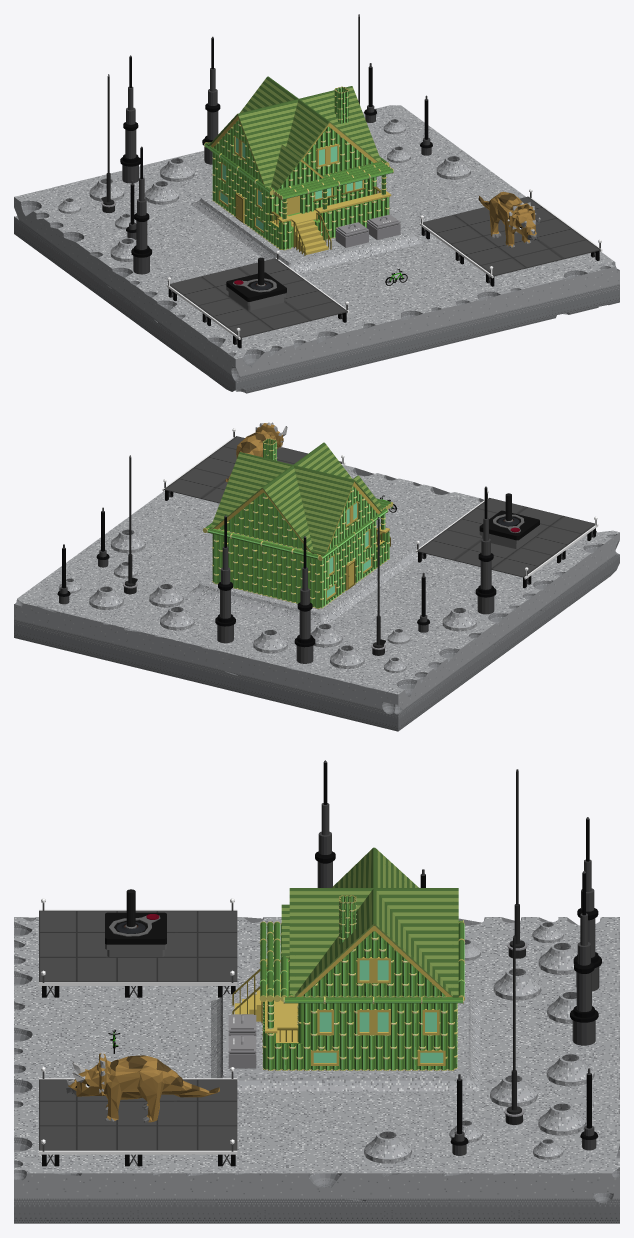
3 renders of one model, top to bottom at view 1: azimuth 30°, elevation 25°; view 2: azimuth 150°, elevation 25°; view 3: azimuth 270°, elevation 25°, orthographic. The views are drawn at different scales.
Parts seen in each view (by area): view 1: Cube.027, Cube.1327, Cube.026, Cube.025, Cube.028, ANIMAL_Triceratops, OBJRANDOM_JOYSTICK, Cylinder.021, Cylinder.020, Cylinder.017, Cube.029, Cube.030 (+5 smaller); view 2: Cube.027, Cube.1327, Cube.025, Cube.028, Cube.026, OBJRANDOM_JOYSTICK, Cylinder.021, Cylinder.020, Cylinder.017, ANIMAL_Triceratops, Cylinder.029, Cylinder.030 (+8 smaller); view 3: Cube.027, Cube.1327, Cube.025, Cube.026, Cube.028, ANIMAL_Triceratops, OBJRANDOM_JOYSTICK, Cylinder.017, Cylinder.021, Cylinder.020, Cylinder.033, Cylinder.031 (+11 smaller).
Boxes of the visible parts, <box> form: Cube.027: <box>14,105,619,393</box>; Cube.1327: <box>204,76,393,255</box>; Cube.026: <box>419,189,602,286</box>; Cube.025: <box>166,250,349,348</box>; Cube.028: <box>191,195,423,273</box>; ANIMAL_Triceratops: <box>478,191,540,247</box>; OBJRANDOM_JOYSTICK: <box>226,257,286,310</box>; Cylinder.021: <box>131,146,151,274</box>; Cylinder.020: <box>120,55,140,183</box>; Cylinder.017: <box>202,36,220,164</box>; Cube.029: <box>335,222,368,247</box>; Cube.030: <box>367,214,400,240</box>; Cube.027: <box>14,465,619,731</box>; Cube.1327: <box>203,438,393,608</box>; Cube.025: <box>415,490,598,588</box>; Cube.028: <box>189,543,417,624</box>; Cube.026: <box>162,428,345,503</box>; OBJRANDOM_JOYSTICK: <box>479,493,539,549</box>; Cylinder.021: <box>475,486,496,614</box>; Cylinder.020: <box>294,536,315,663</box>; Cylinder.017: <box>215,515,235,643</box>; ANIMAL_Triceratops: <box>225,422,287,482</box>; Cylinder.029: <box>160,606,194,630</box>; Cylinder.030: <box>149,583,183,607</box>; Cube.027: <box>14,917,619,1223</box>; Cube.1327: <box>232,847,465,1070</box>; Cube.025: <box>39,898,237,997</box>; Cube.026: <box>39,1067,237,1166</box>; Cube.028: <box>211,994,480,1091</box>; ANIMAL_Triceratops: <box>65,1051,219,1122</box>; OBJRANDOM_JOYSTICK: <box>105,889,166,956</box>; Cylinder.017: <box>570,870,598,1045</box>; Cylinder.021: <box>315,760,335,887</box>; Cylinder.020: <box>573,817,601,991</box>; Cylinder.033: <box>364,1130,411,1163</box>; Cylinder.031: <box>538,1102,585,1135</box>.
Size of the model in its own units: 4000 by 1807 by 4000.
Materials: 35 (5 with a texture image).
